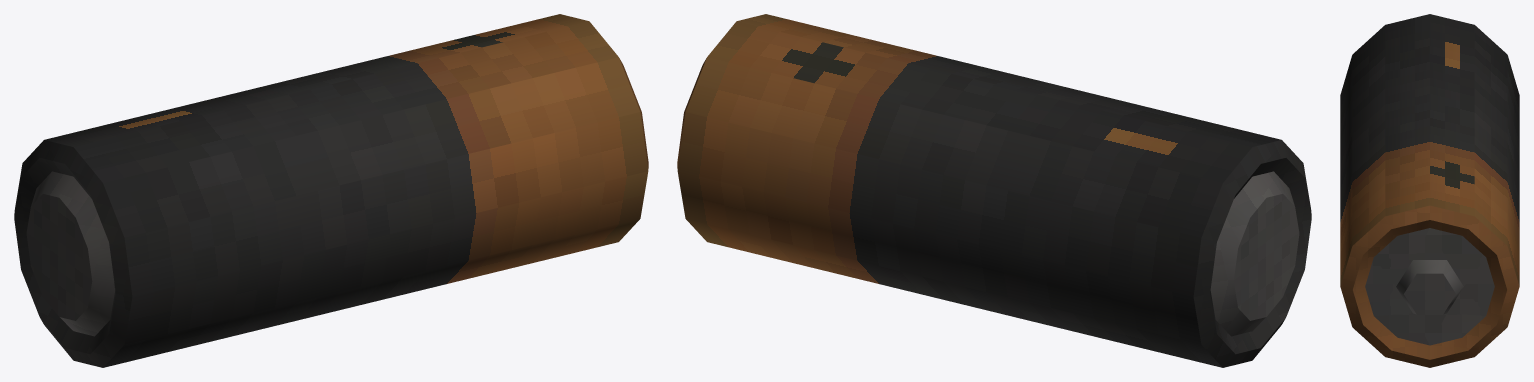
Rendered from battery_mp_1.glb.
3 renders of one model, left to right at view 1: azimuth 30°, elevation 25°; view 2: azimuth 150°, elevation 25°; view 3: azimuth 270°, elevation 25°, orthographic. The views are drawn at different scales.
Visible parts, largest first — view 1: battery_mp_1; view 2: battery_mp_1; view 3: battery_mp_1.
Part boxes in pixels (x1=…): battery_mp_1: x1=14, y1=14, x2=648, y2=367; battery_mp_1: x1=677, y1=14, x2=1311, y2=367; battery_mp_1: x1=1340, y1=14, x2=1519, y2=367.
Bounding box in the file's own units: 0.097 × 0.036 × 0.036.
Materials: 1 (1 with a texture image).
